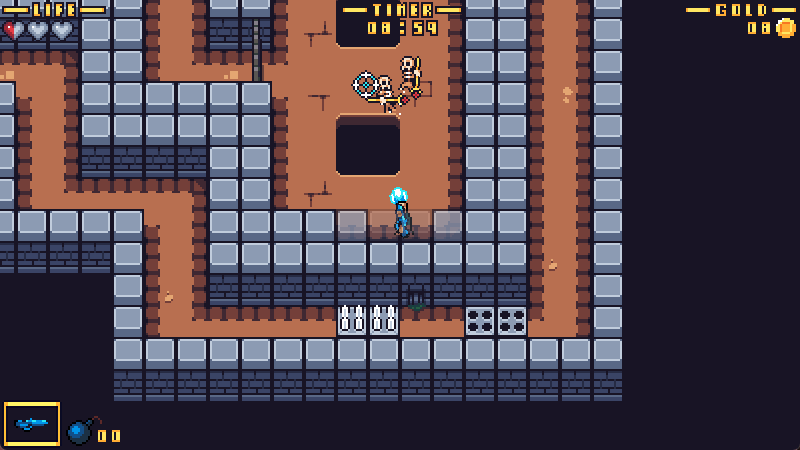aim: (353, 72, 379, 100)
enemy_skeleton: (369, 76, 409, 112), (397, 55, 423, 101)
health-5: (1, 20, 76, 42)
player: (392, 201, 415, 240)
shoot: (389, 185, 409, 207)
trap_off: (466, 307, 527, 367)
trap_on: (335, 306, 399, 367)
